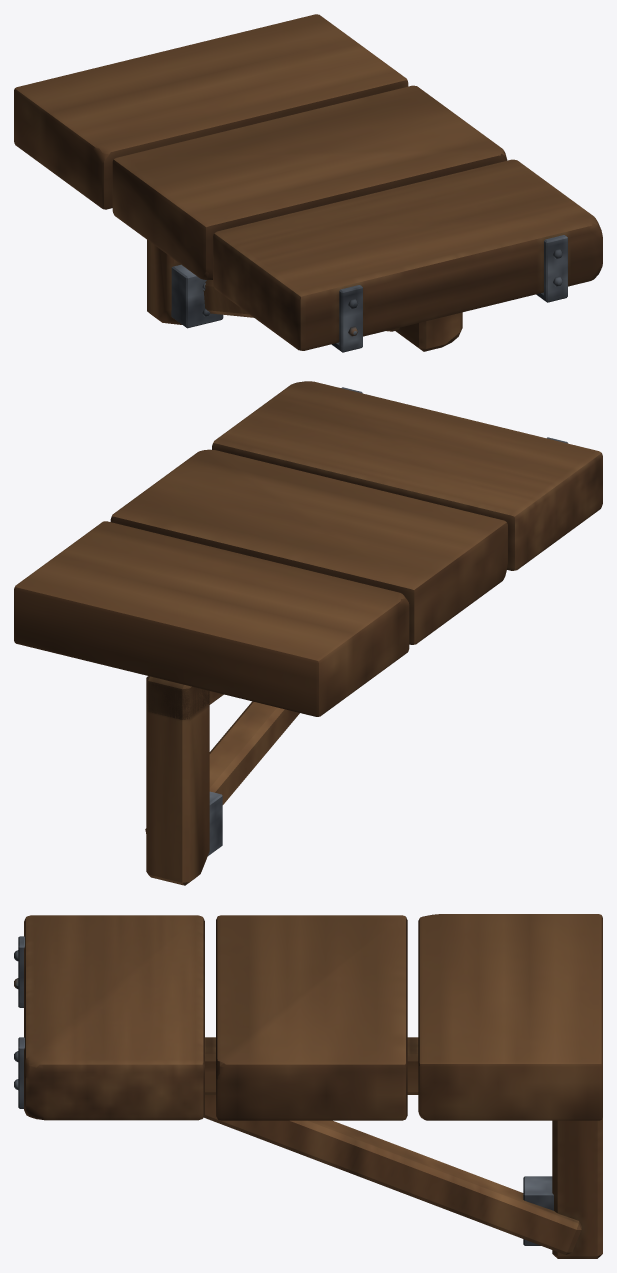
File: ENV_WoodPlatform.fbx
3 renders of one model, top to bottom at view 1: azimuth 30°, elevation 25°; view 2: azimuth 150°, elevation 25°; view 3: azimuth 270°, elevation 25°, orthographic.
Visible parts, largest first — view 1: ENV_WoodPlatform; view 2: ENV_WoodPlatform; view 3: ENV_WoodPlatform.
Boxes of the visible parts, x1,y1,x2,y2 form: ENV_WoodPlatform: (14, 14, 602, 352); ENV_WoodPlatform: (14, 381, 602, 885); ENV_WoodPlatform: (14, 914, 602, 1258).
Size of the model in its own units: 0.9893 by 0.8 by 1.63.
